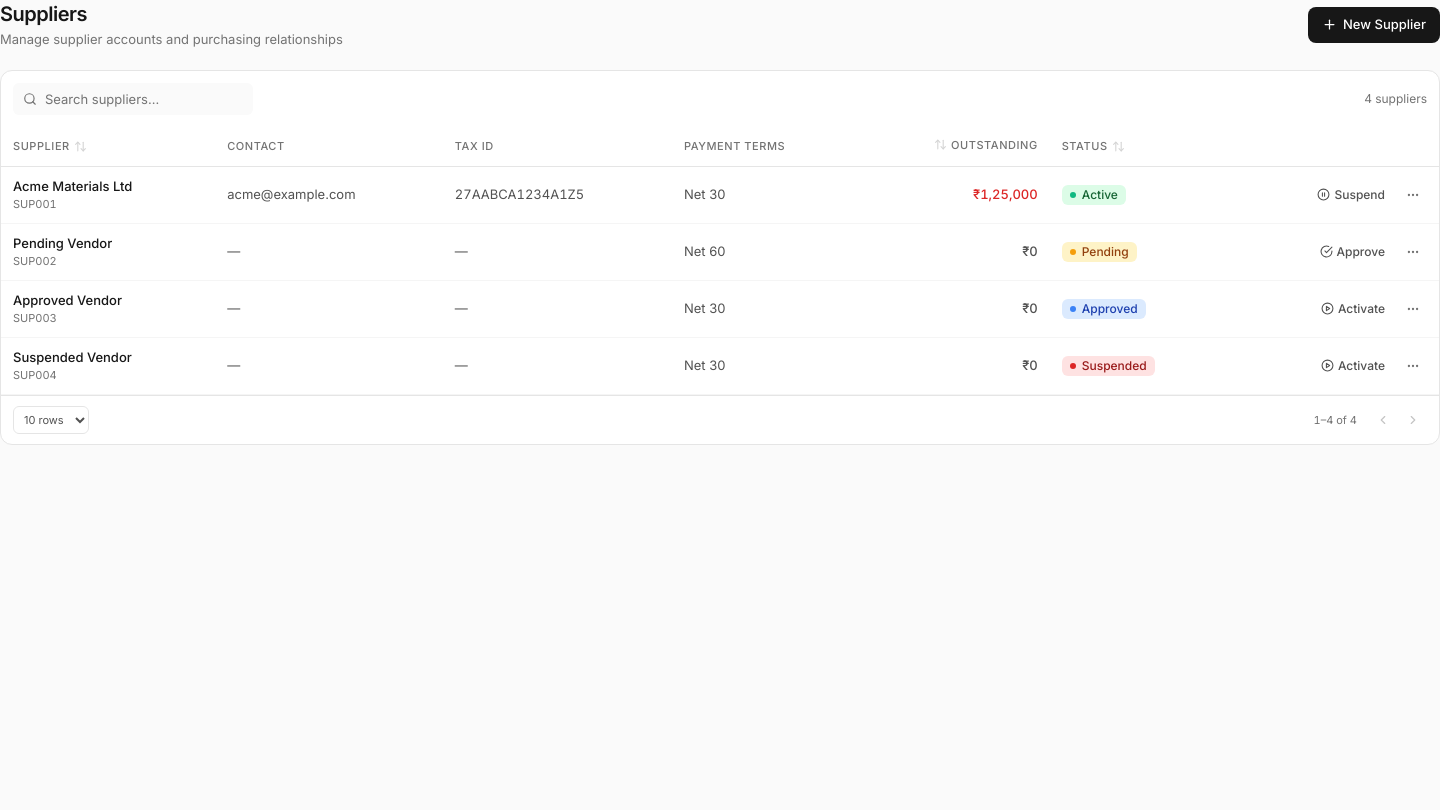
Test case: SuppliersPage › validates required name field on submit (VAL-P2P-001)
Click the button "New Supplier": (1374, 25) left=1308, top=7, right=1439, bottom=43
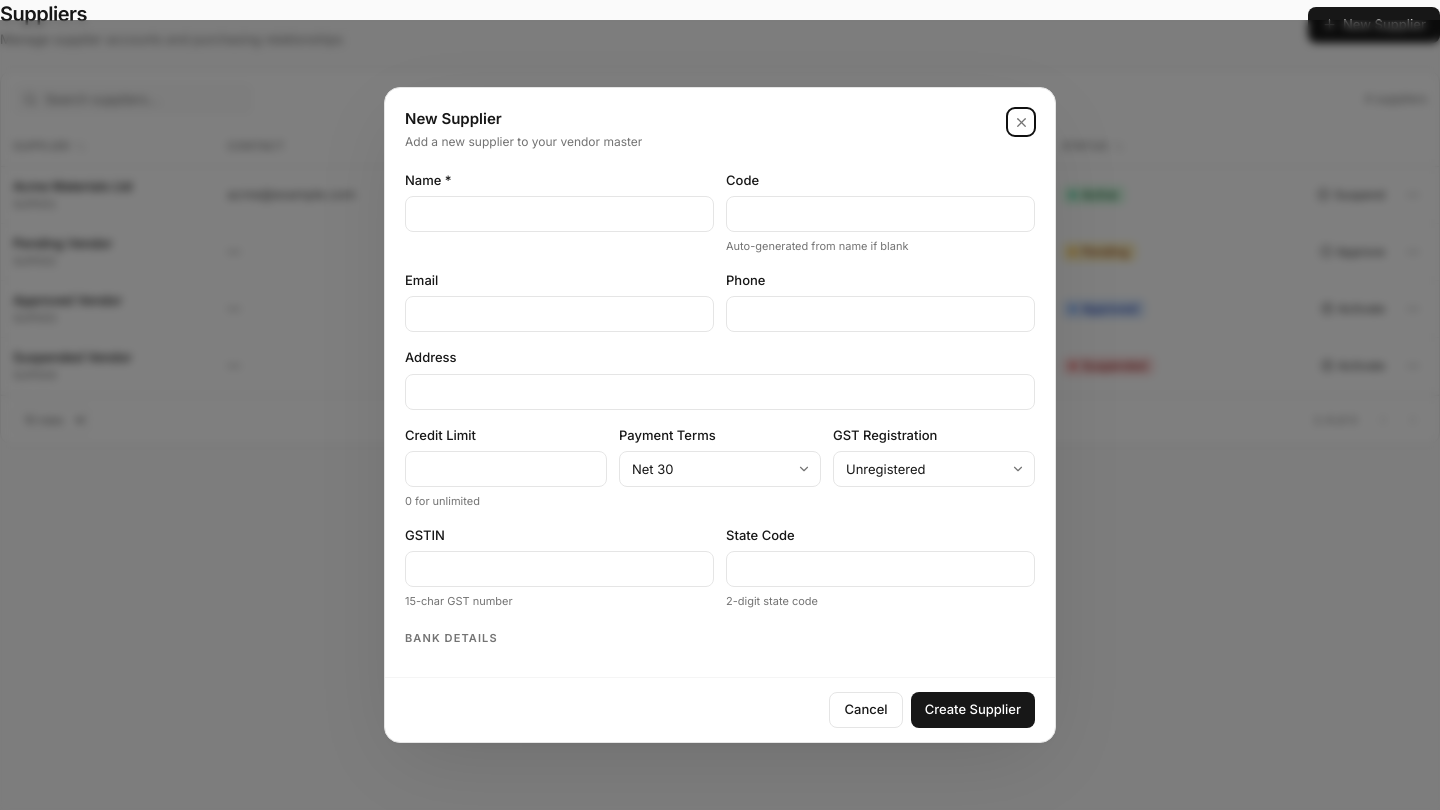
Result: the button "Create Supplier" is shown
Note: Click save without filling name
Click the button "Create Supplier": (973, 710) left=911, top=692, right=1035, bottom=728
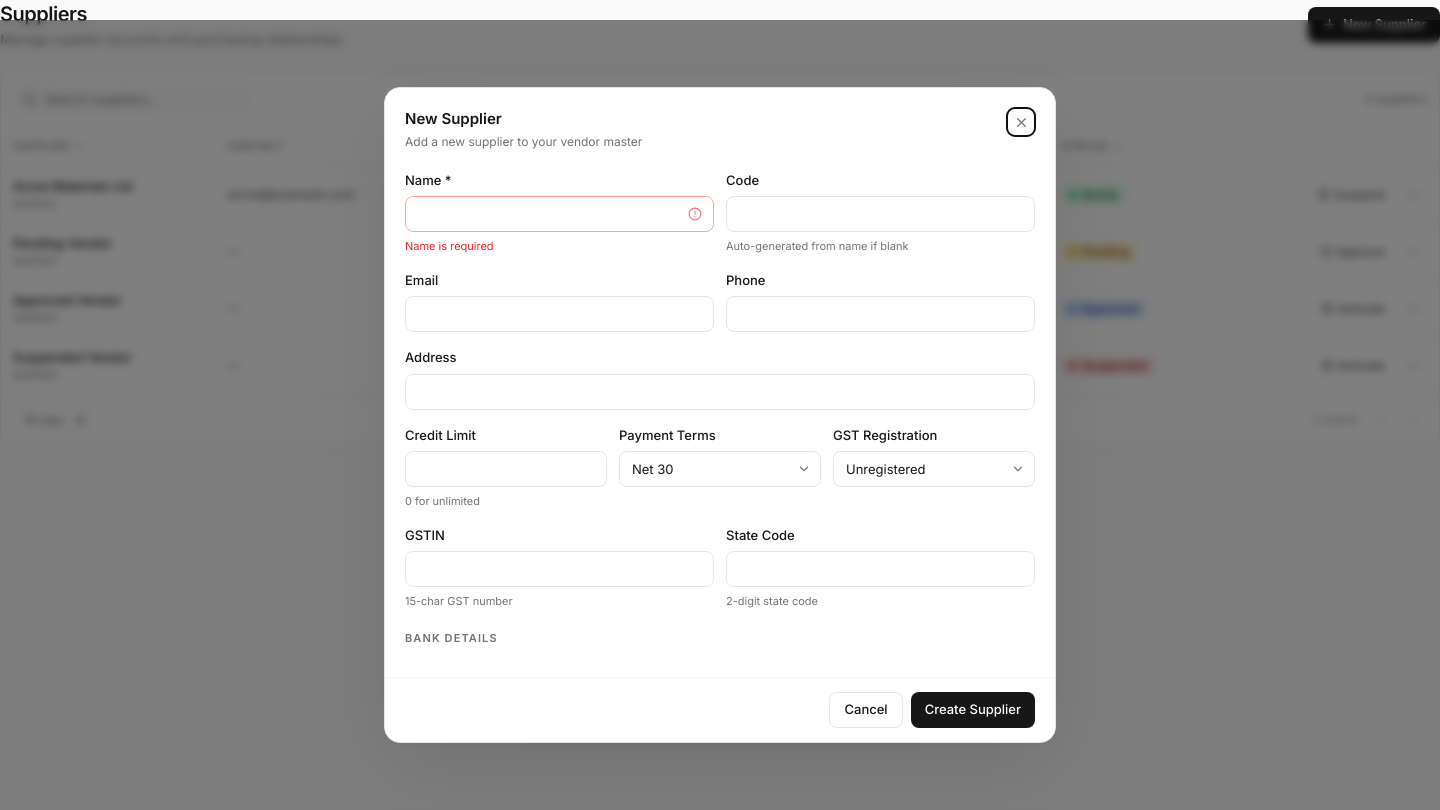
Result: the text "Name is required" is shown at left=405, top=239, right=494, bottom=253
